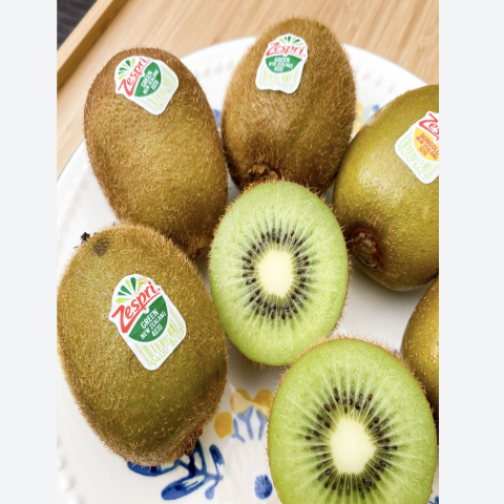kiwi: (48, 205, 248, 464), (84, 24, 225, 271), (212, 11, 370, 205)
